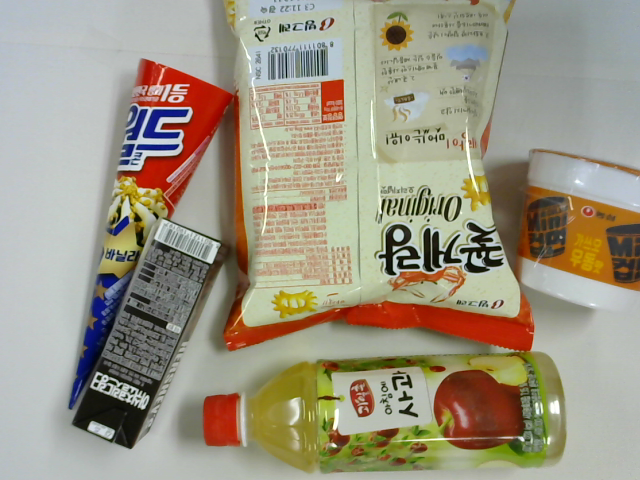Crabrang: (211, 1, 535, 355)
Hush_Choco_Drink: (76, 217, 234, 450)
Morning_Apple_500ml: (199, 348, 568, 474)
Udongmini: (524, 146, 640, 312)
World_Cone_Banila: (66, 57, 237, 410)
